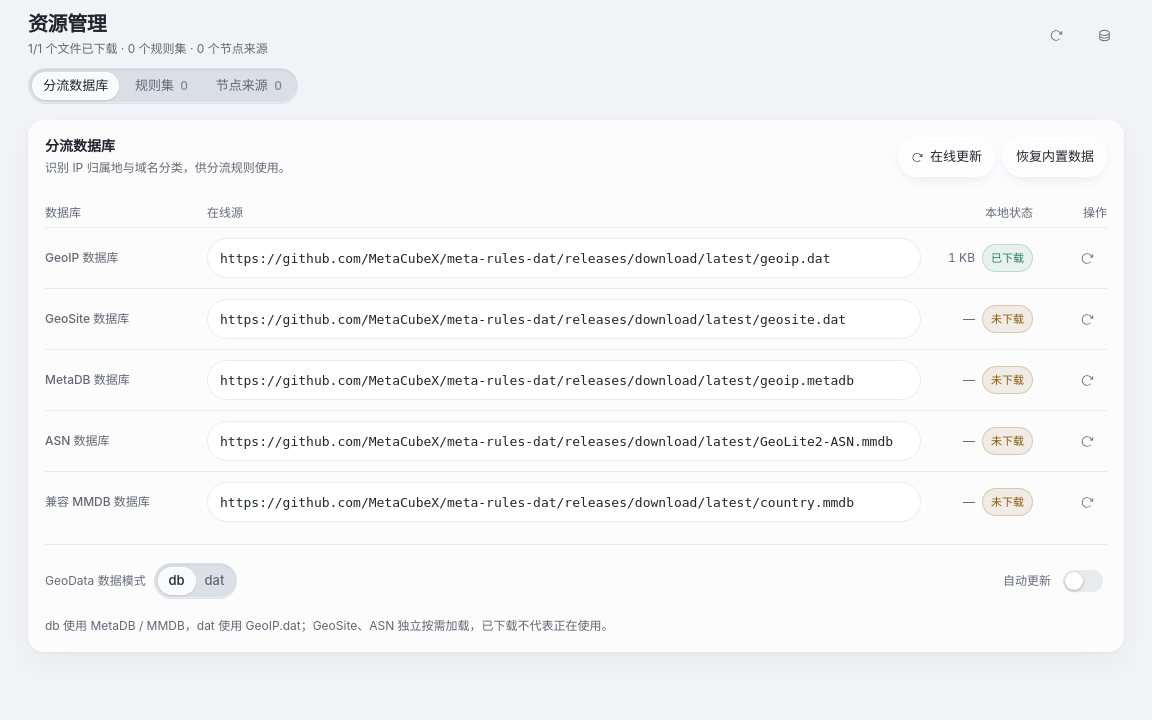
Test case: 资源加载不提前报告缺失，失败刷新标记旧数据并可重试
Step 1. Click the button named "刷新资源" → (1056, 35), box x1=1036 y1=19 x2=1076 y2=51
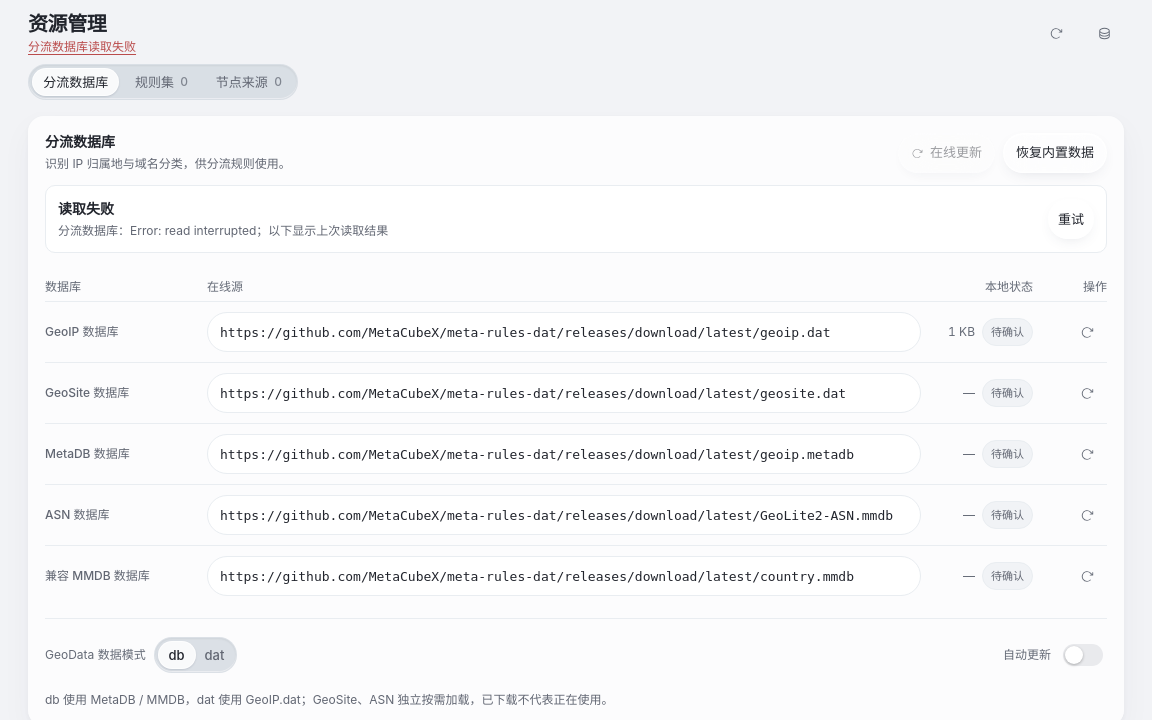
Check: the text "上次" is shown, box x1=58 y1=222 x2=388 y2=240
Check: the text "read interrupted" is shown, box x1=58 y1=223 x2=388 y2=238
Step 2. Click the button "重试" → (1071, 219), box x1=1048 y1=199 x2=1094 y2=239
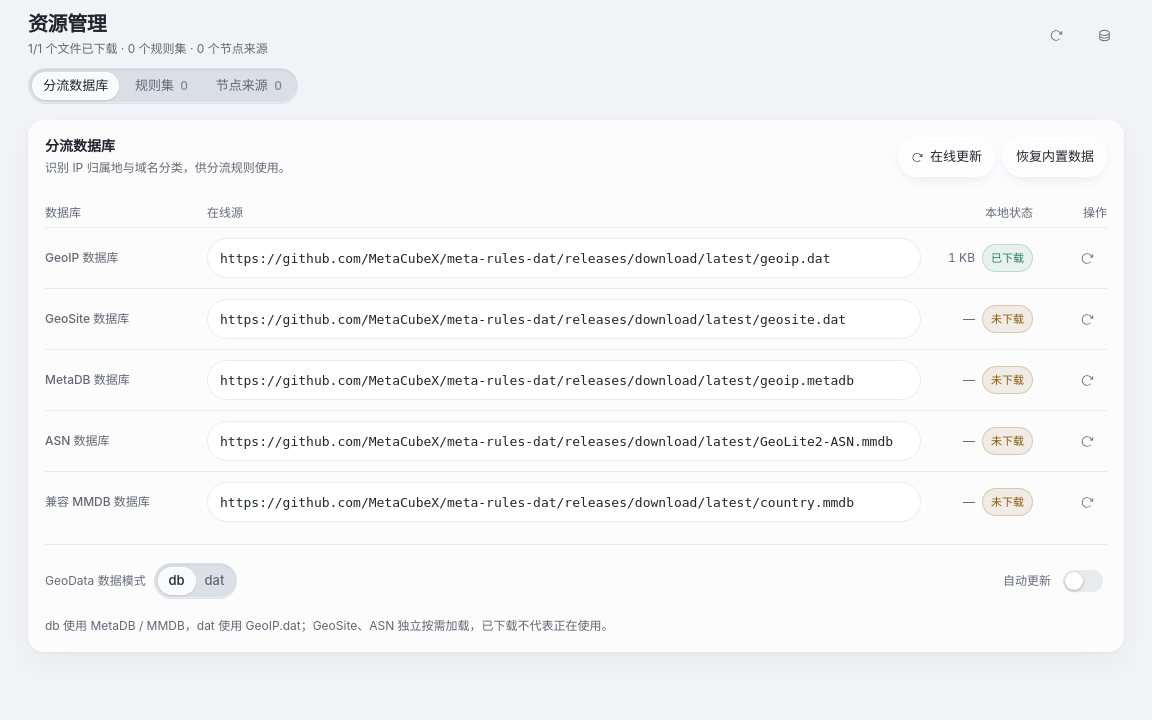
Check: the text "read interrupted" is gone
